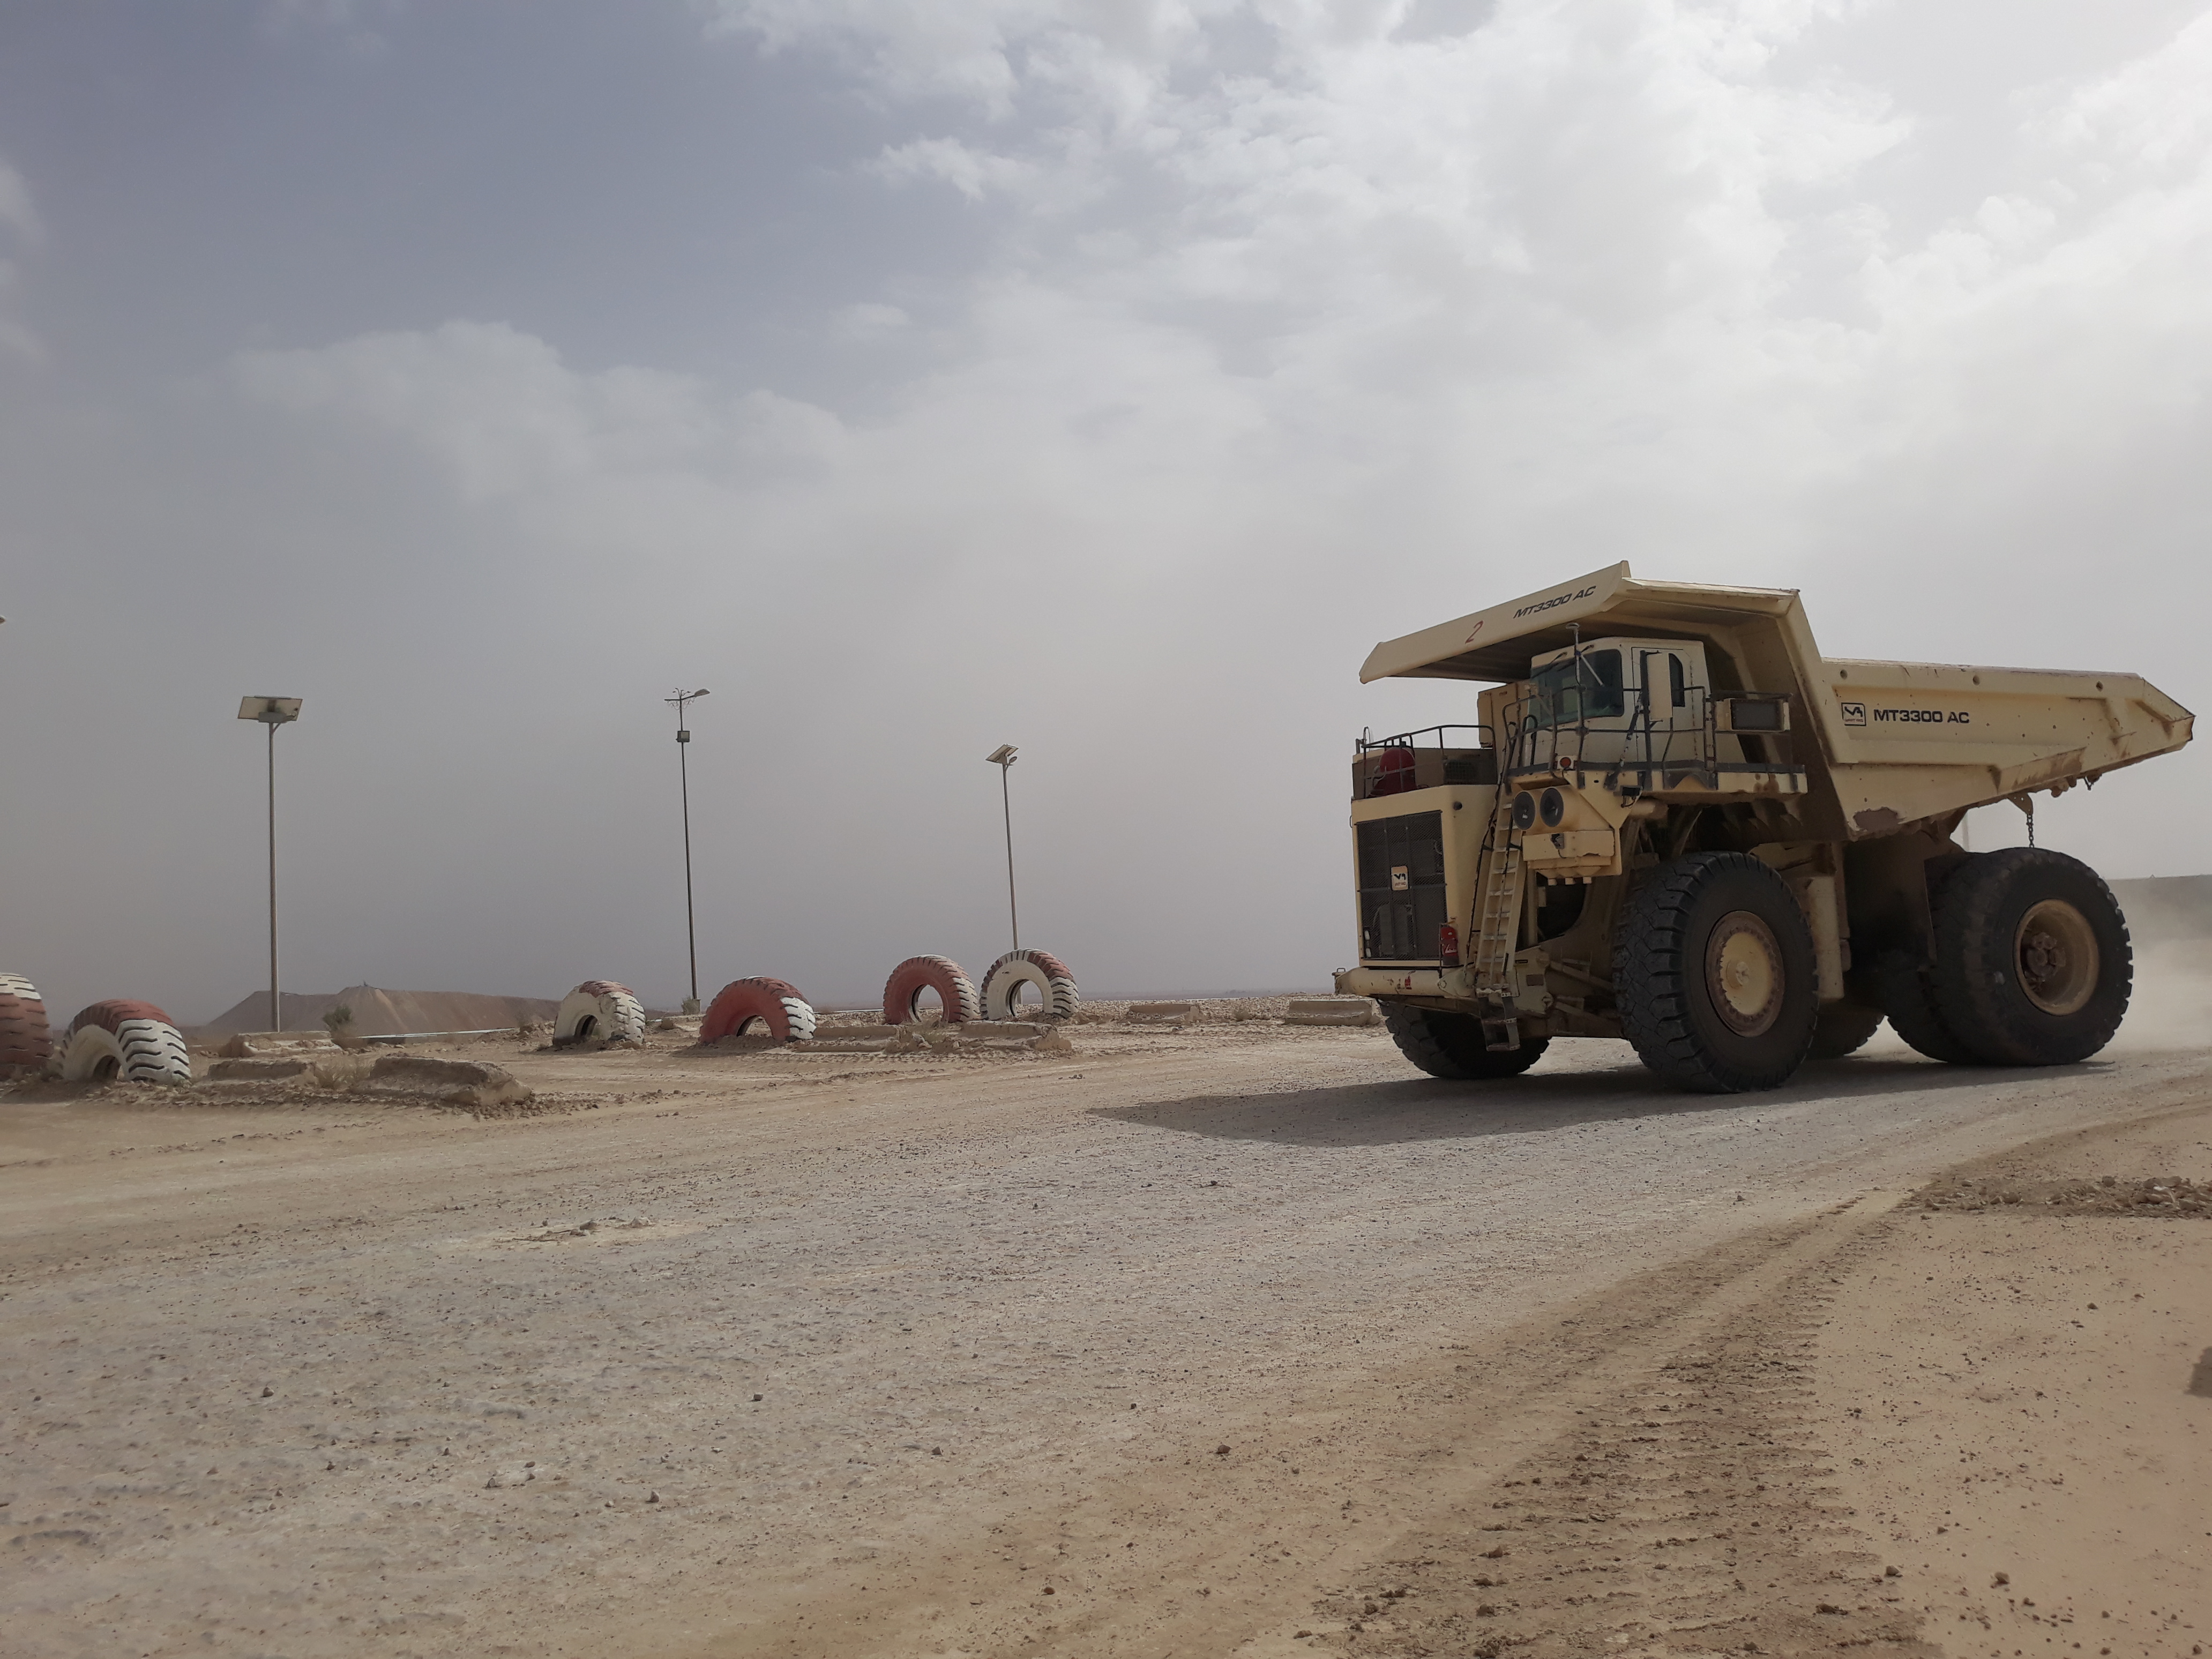camion: (1294, 542, 2212, 1136)
